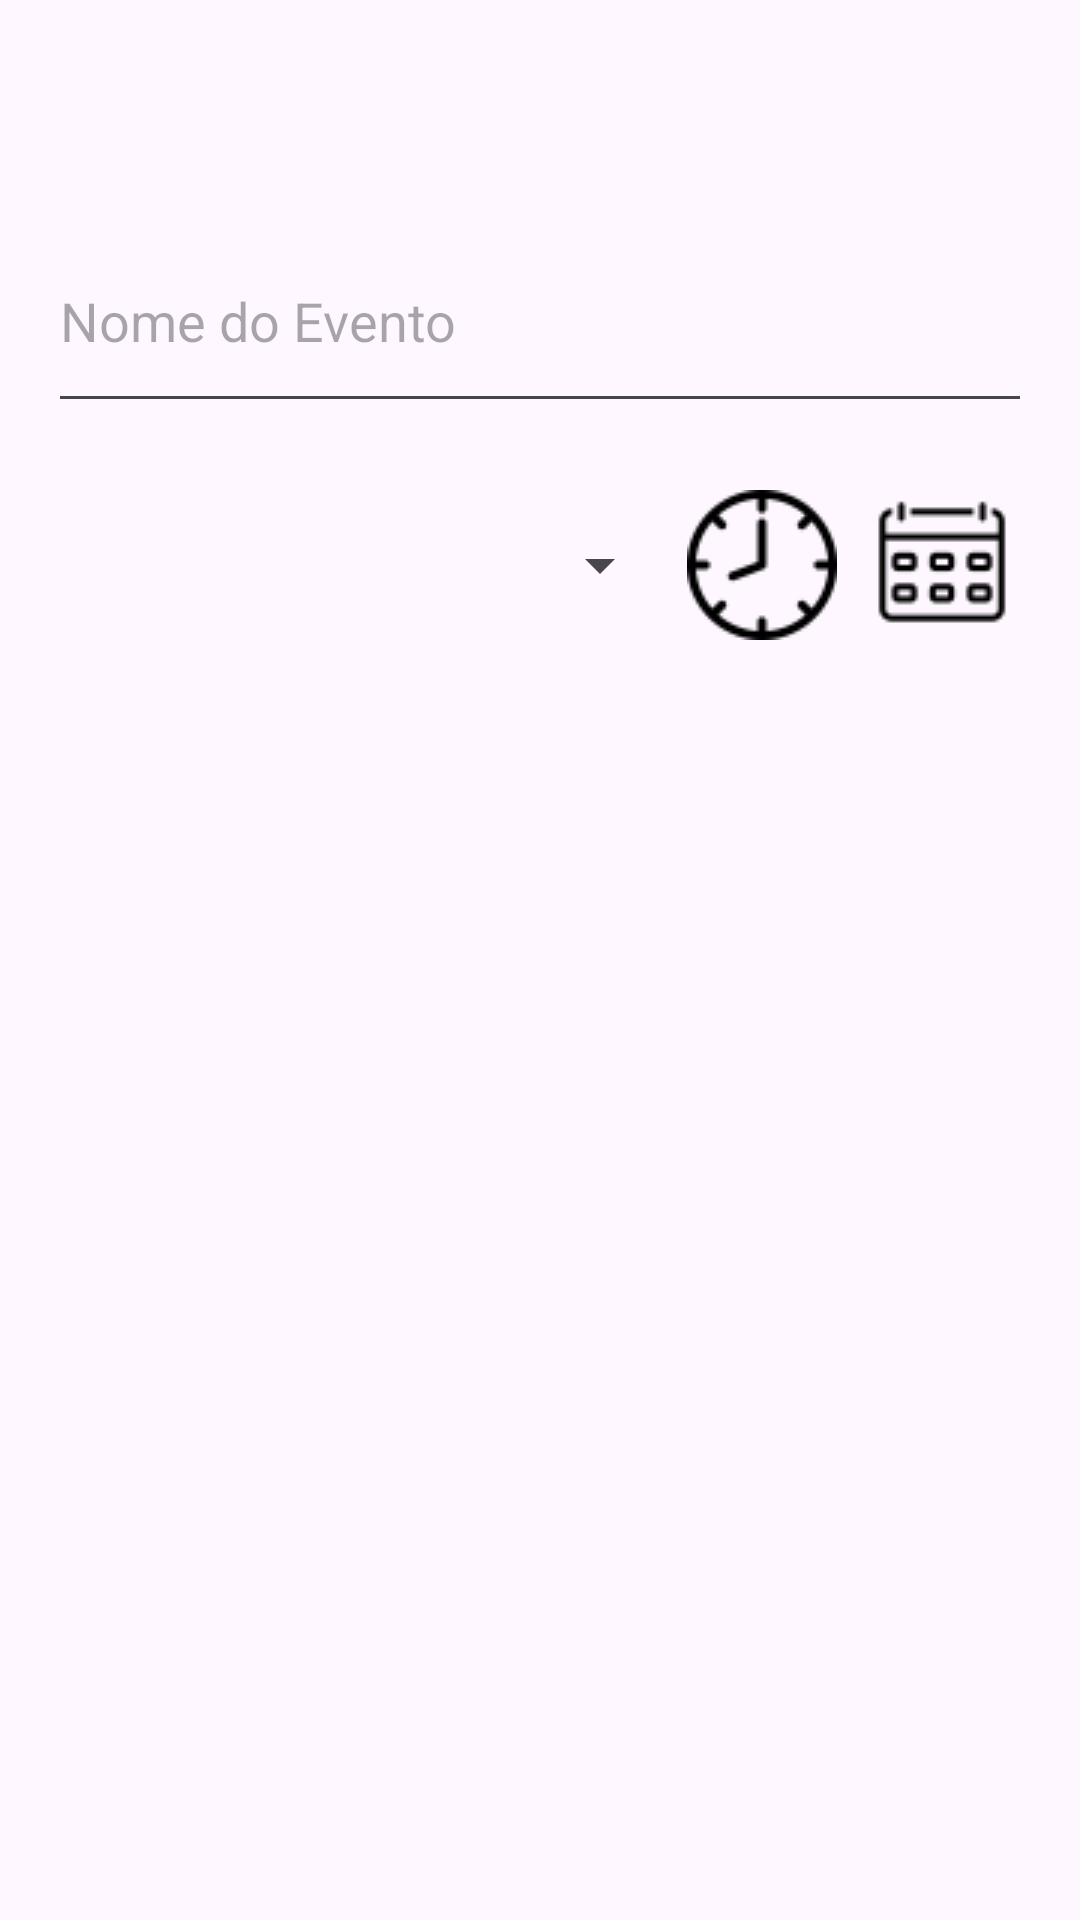

Screen size 1080x1920. Icon name, then its box in pixels as (x1, y1, x2, y2):
Calendário: (878, 501, 1006, 623)
Relógio: (687, 490, 837, 640)
